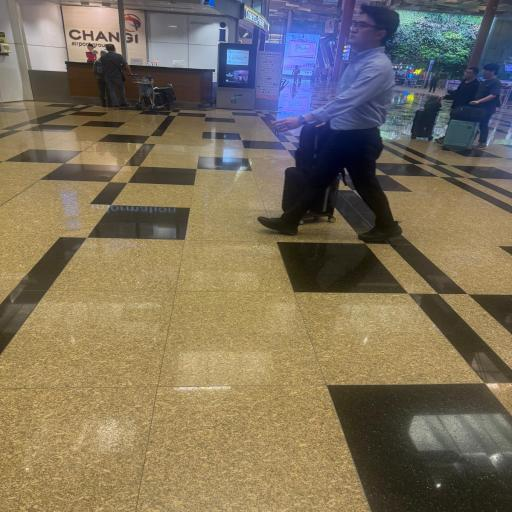person_with_luggage_left: (257, 4, 403, 242), (438, 66, 480, 144), (468, 64, 502, 150)
